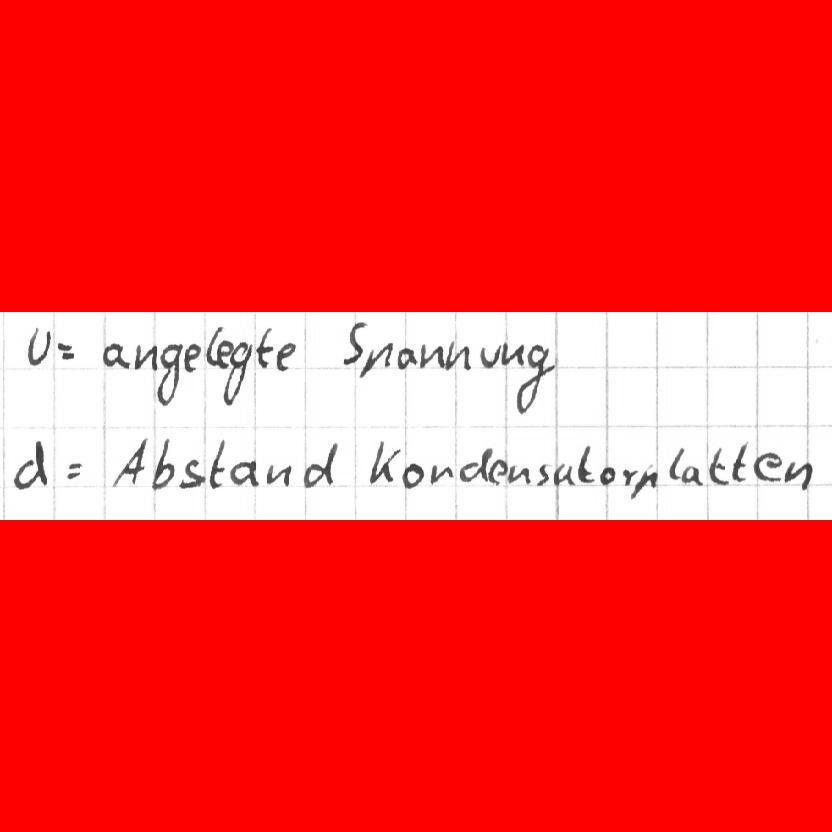Char: (516, 341, 555, 415), (111, 436, 150, 490), (222, 339, 253, 406), (300, 440, 340, 490), (155, 342, 183, 410), (11, 439, 47, 490), (357, 341, 393, 381), (368, 439, 400, 484), (23, 322, 54, 368), (149, 436, 174, 491), (341, 321, 368, 368), (458, 445, 491, 483), (254, 324, 277, 372), (705, 444, 729, 488), (782, 458, 812, 492), (206, 438, 226, 488), (442, 339, 472, 371), (731, 438, 750, 485), (629, 469, 658, 499), (178, 458, 206, 489), (753, 451, 781, 481), (418, 339, 445, 370), (229, 459, 259, 486), (263, 461, 291, 489), (499, 339, 526, 368), (134, 340, 158, 371), (477, 342, 503, 370), (427, 461, 455, 487), (275, 340, 297, 373), (575, 445, 594, 483), (55, 338, 85, 362), (205, 323, 221, 368), (104, 342, 130, 369), (550, 461, 576, 486), (666, 448, 685, 482), (399, 463, 424, 488), (506, 462, 531, 487), (677, 463, 703, 487), (183, 340, 201, 374), (487, 458, 508, 487), (216, 337, 234, 370), (394, 345, 416, 368), (63, 460, 85, 483), (534, 461, 550, 488), (619, 467, 640, 485), (597, 465, 615, 485)
